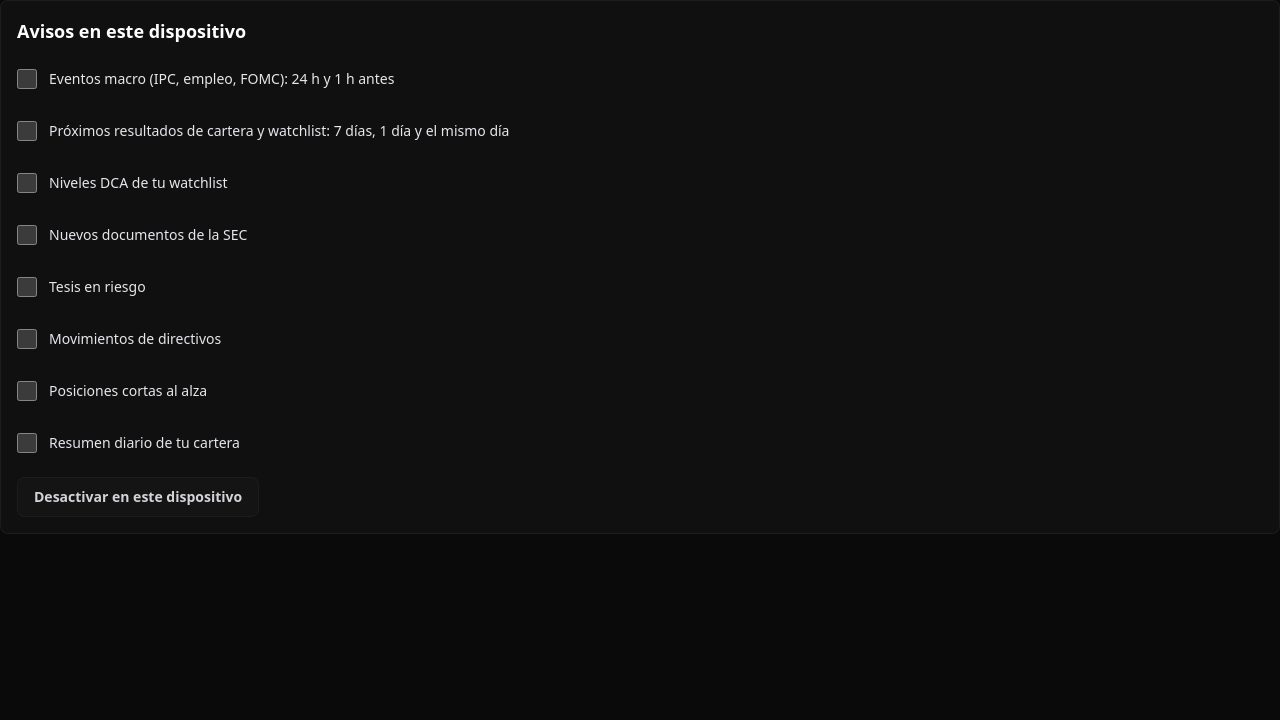
it: PushNotifications › reports failures when saving a type or disabling
Click the checkbox labelled "Eventos macro (IPC, empleo, FOMC): 24 h y 1 h antes": x=27, y=79 x1=17 y1=69 x2=37 y2=89
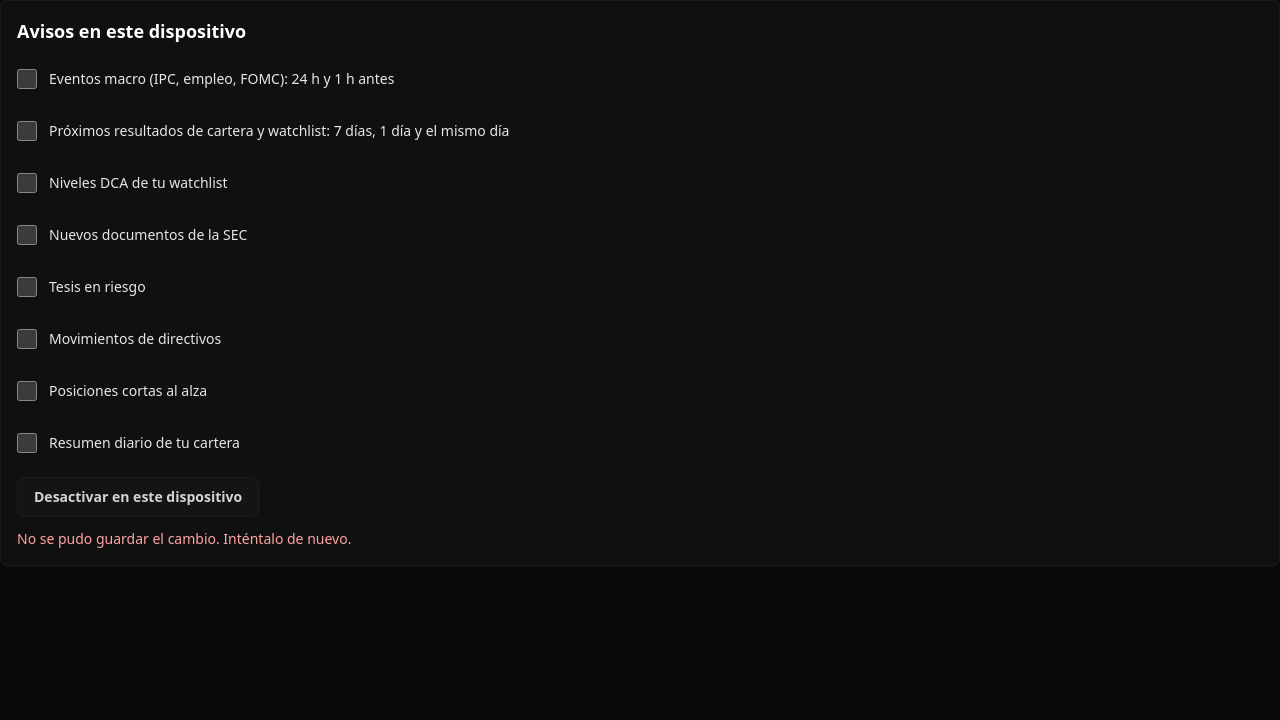
Check: the message shows "No se pudo guardar", box x1=17 y1=529 x2=351 y2=548
Click the button "Desactivar en este dispositivo": x=138, y=497 x1=17 y1=477 x2=259 y2=517
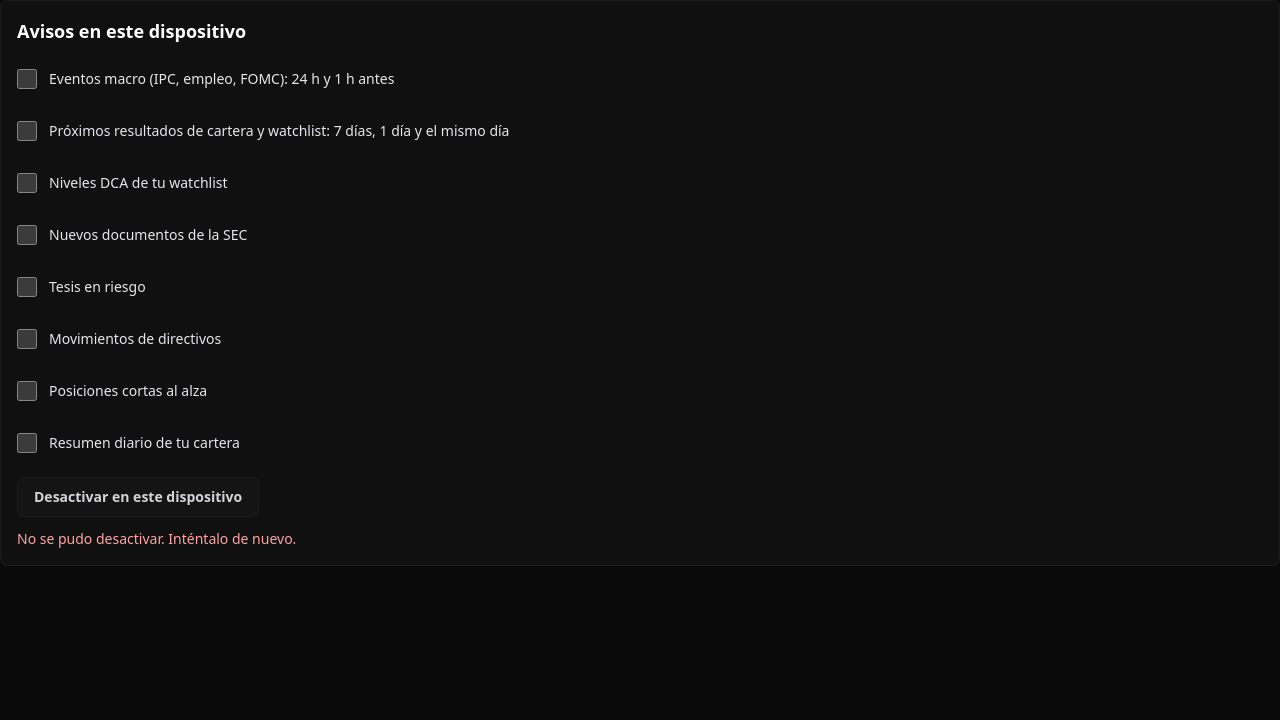
Check: the message shows "No se pudo desactivar", box x1=17 y1=529 x2=296 y2=548
